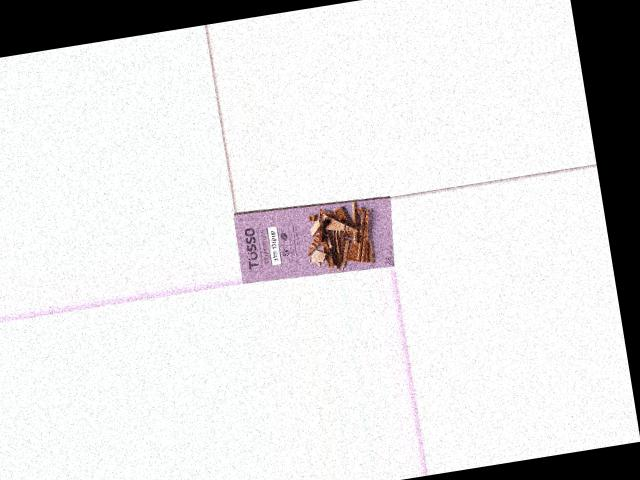chocolate: (235, 192, 400, 285)
